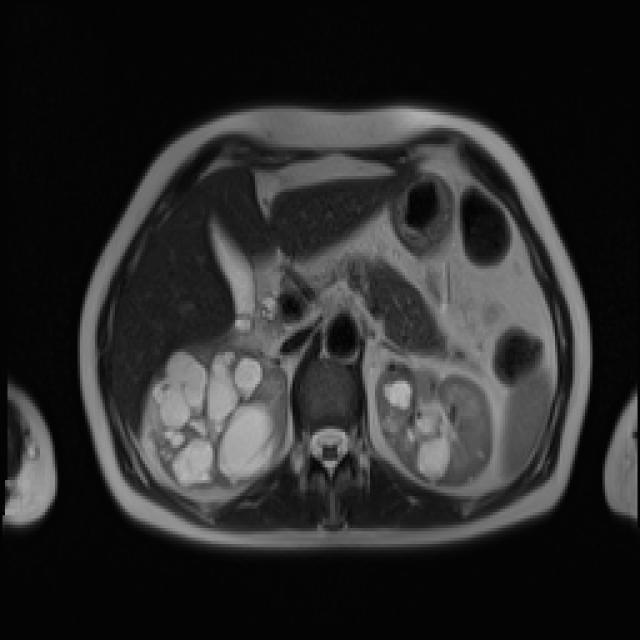sag: (144, 341, 290, 491)
sol: (374, 357, 495, 490)
